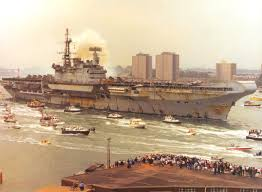rust: (68, 90, 96, 105), (102, 80, 110, 95), (126, 91, 136, 101), (213, 105, 225, 113)
